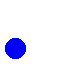circle: (5, 38, 25, 58)
